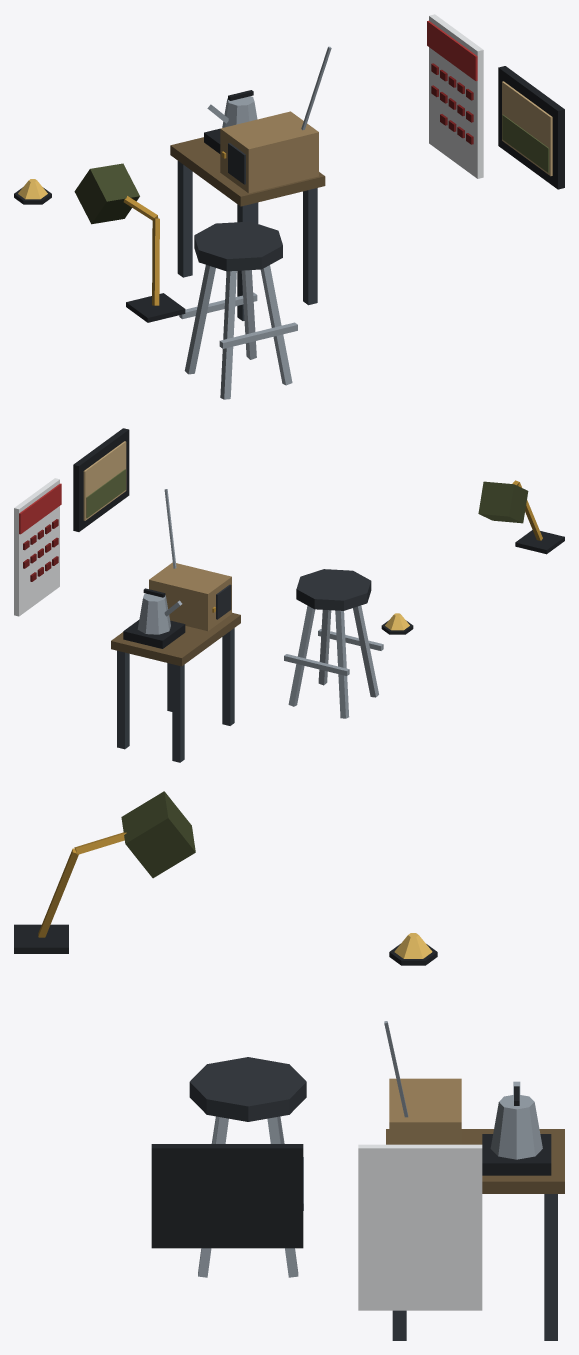
The model's file is prop_vendor_quartermaster.fbx.
The picture shows the model from 3 angles, top to bottom: view 1: azimuth 30°, elevation 25°; view 2: azimuth 150°, elevation 25°; view 3: azimuth 270°, elevation 25°; orthographic projection. The views are drawn at different scales.
Visible parts, largest first — view 1: prop_vendor_quartermaster; view 2: prop_vendor_quartermaster; view 3: prop_vendor_quartermaster.
Part boxes in pixels (x1,y1,x2,y2): prop_vendor_quartermaster: (14,14,564,399); prop_vendor_quartermaster: (14,428,564,762); prop_vendor_quartermaster: (14,791,564,1340).
Bounding box in the file's own units: 1012 × 567 × 800.
